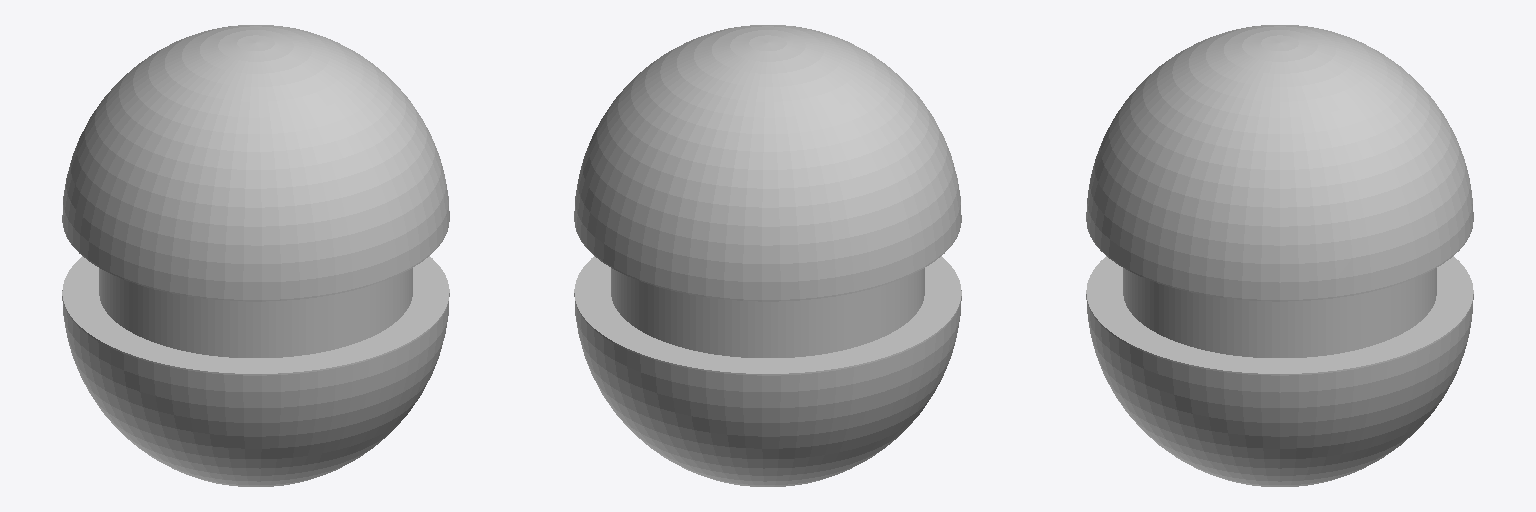
File: droid_anim_000018.obj
The picture shows the model from 3 angles: view 1: azimuth 30°, elevation 25°; view 2: azimuth 150°, elevation 25°; view 3: azimuth 270°, elevation 25°; orthographic projection.
Visible parts, largest first — view 1: Sphere.004, Sphere.005, Cylinder.002; view 2: Sphere.004, Sphere.005, Cylinder.002; view 3: Sphere.004, Sphere.005, Cylinder.002.
Boxes of the visible parts, <box> form: Sphere.004: <box>62,25,449,301</box>; Sphere.005: <box>62,256,449,486</box>; Cylinder.002: <box>99,268,412,357</box>; Sphere.004: <box>574,25,961,301</box>; Sphere.005: <box>574,256,961,486</box>; Cylinder.002: <box>611,268,924,357</box>; Sphere.004: <box>1086,25,1473,301</box>; Sphere.005: <box>1086,256,1473,486</box>; Cylinder.002: <box>1123,268,1436,357</box>.
Size of the model in its own units: 2 by 2.43 by 2.